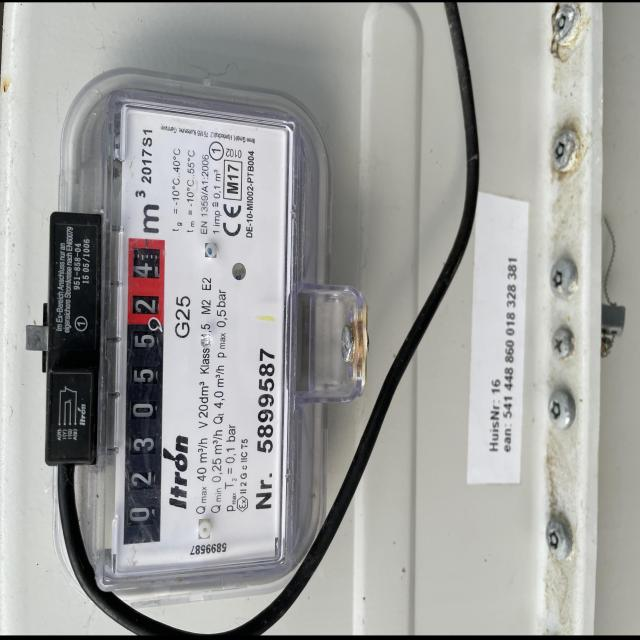gaz_meter: (71, 84, 308, 576)
indication: (122, 240, 165, 545)
